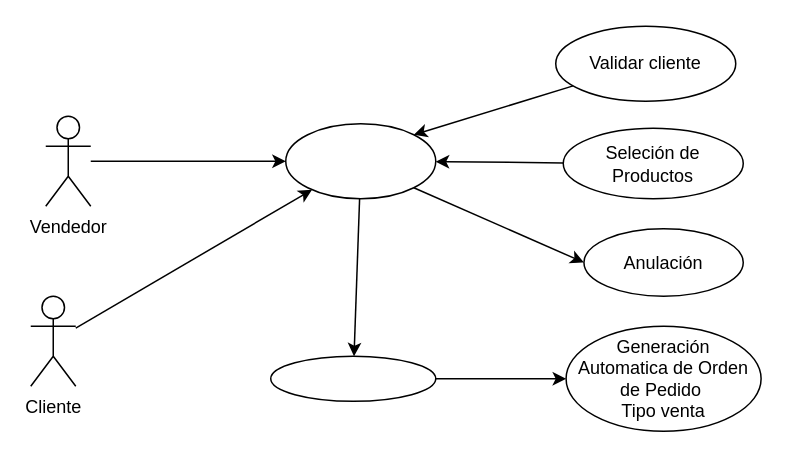
This 788x458 diagram has some shape labels left out. The centre of each missing label's shape, as x and y in pixels:
"Aprobación" goes at point (352, 378).
"Generar cotización" goes at point (360, 160).
